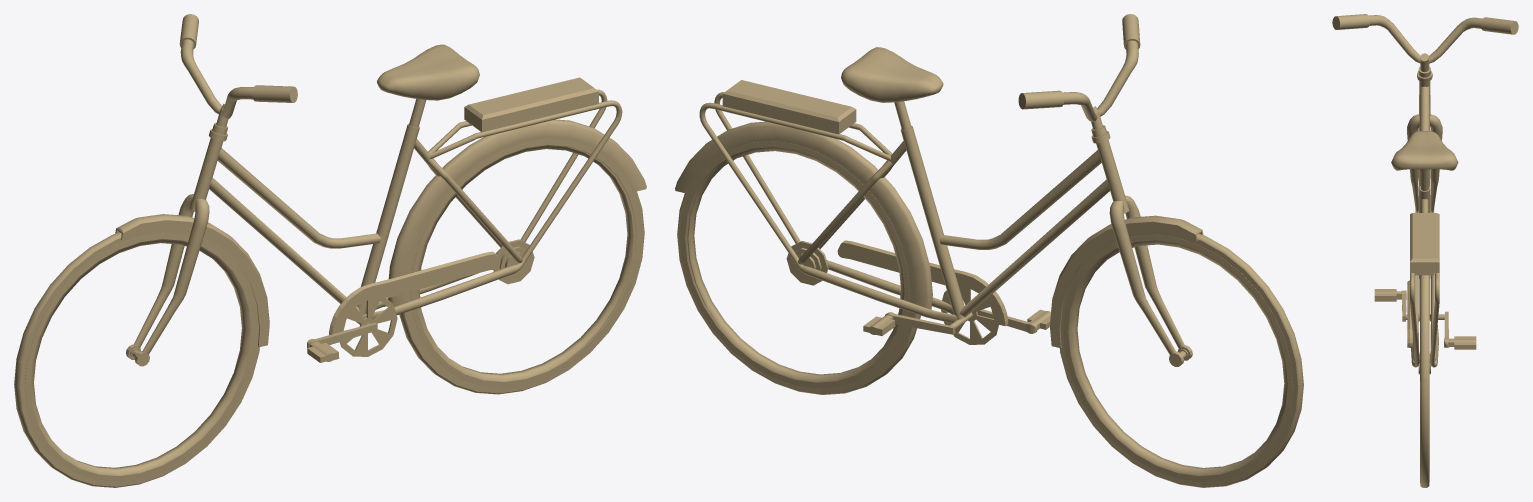
File: Bike_V1.fbx
The picture shows the model from 3 angles, left to right: view 1: azimuth 30°, elevation 25°; view 2: azimuth 150°, elevation 25°; view 3: azimuth 270°, elevation 25°; orthographic projection. The views are drawn at different scales.
Parts seen in each view (by area): view 1: Frame, Wheel_Front, Wheel_Back, Steering wheel, Peddles; view 2: Frame, Wheel_Front, Wheel_Back, Steering wheel, Peddles; view 3: Frame, Steering wheel, Wheel_Back, Peddles.
Part boxes in pixels (x1=…): Frame: x1=209, y1=44, x2=646, y2=334; Wheel_Front: x1=14, y1=230, x2=259, y2=487; Wheel_Back: x1=399, y1=136, x2=644, y2=394; Steering wheel: x1=115, y1=14, x2=297, y2=366; Peddles: x1=307, y1=296, x2=397, y2=362; Frame: x1=675, y1=47, x2=1109, y2=325; Wheel_Front: x1=1059, y1=232, x2=1303, y2=487; Wheel_Back: x1=677, y1=138, x2=920, y2=394; Steering wheel: x1=1018, y1=14, x2=1203, y2=366; Peddles: x1=863, y1=284, x2=1050, y2=344; Frame: x1=1391, y1=86, x2=1458, y2=381; Steering wheel: x1=1332, y1=14, x2=1518, y2=278; Wheel_Back: x1=1418, y1=275, x2=1430, y2=487; Peddles: x1=1374, y1=289, x2=1476, y2=349.
Bounding box in the file's own units: 202 × 125 × 61.25.
